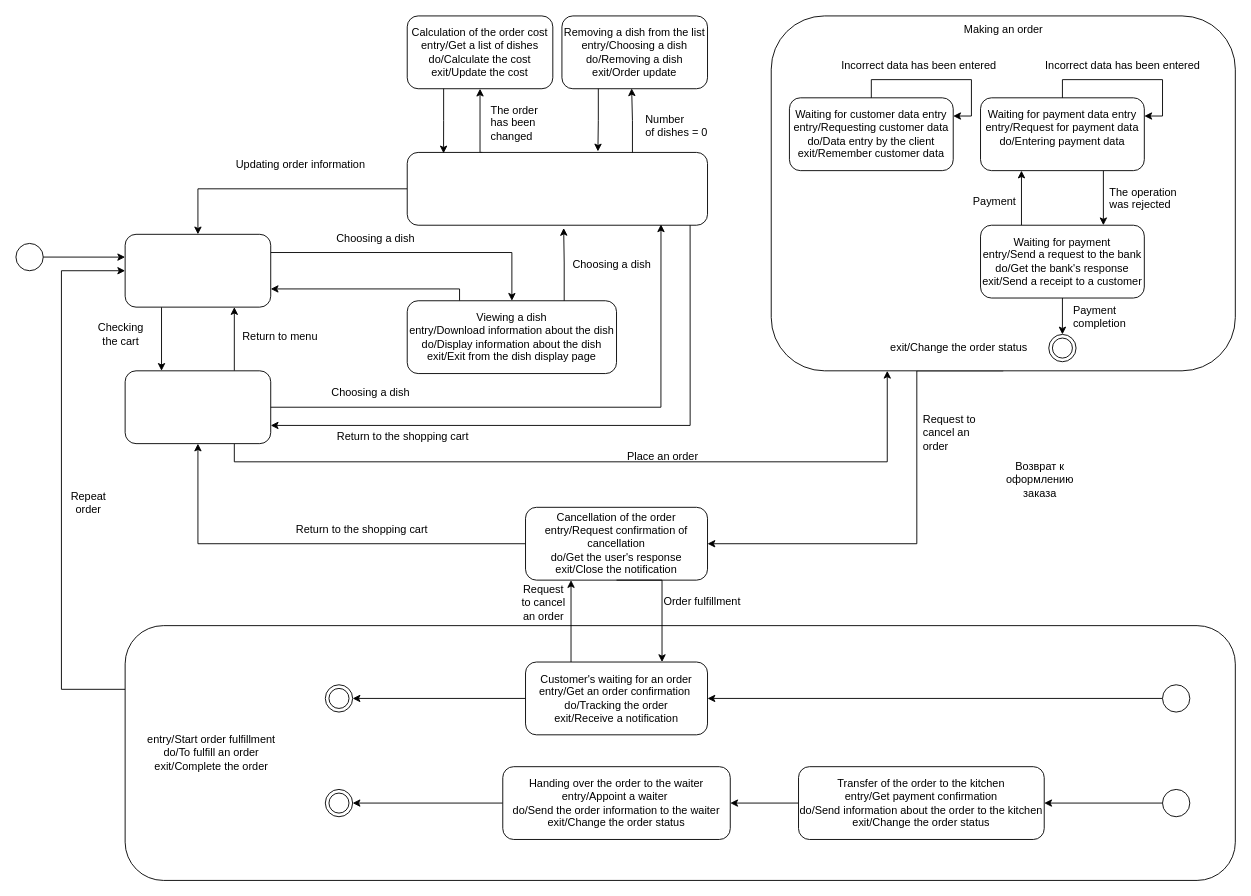
Image size: 1251x896. Some labels were removed from this diagram. The box of each missing label's shape, as (x1, y1, x2, y2) in pixels:
Changing the order entry/Choose dish do/Select the quantity exit/Update order: (406, 152, 708, 225)
Viewing the menu entry/Download menu do/View the menu exit/Exit from menu: (124, 233, 271, 307)
Viewing the order entry/Download the order do/View the order exit/Exit from cart: (124, 370, 271, 444)
